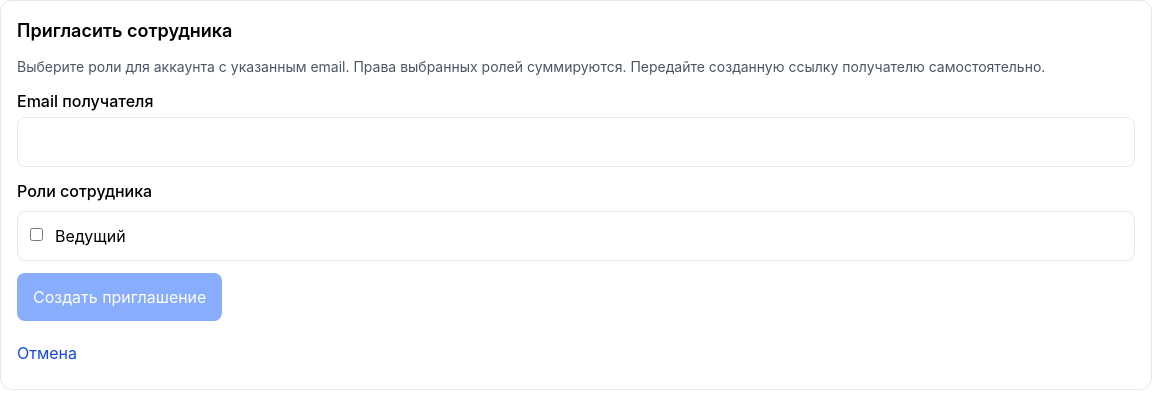
Test case: сбой локального сохранения не теряет полученную ссылку и не повторяет RPC
This screenshot has width=1152, height=407.
Click the checkbox labelled "Ведущий" at {"x": 36, "y": 234}, box [30,228,43,241]
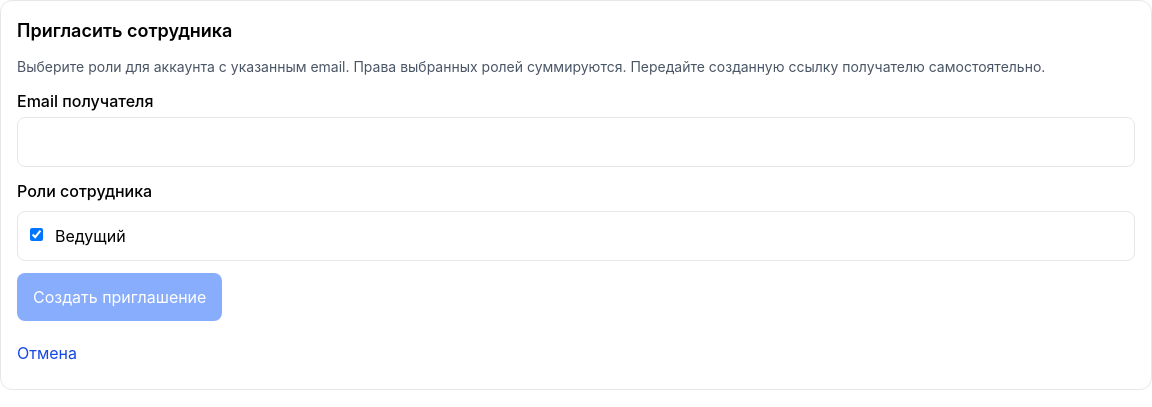
Type "demo@example.test" into the field labelled "Email получателя" at {"x": 576, "y": 142}, box [17,117,1135,167]
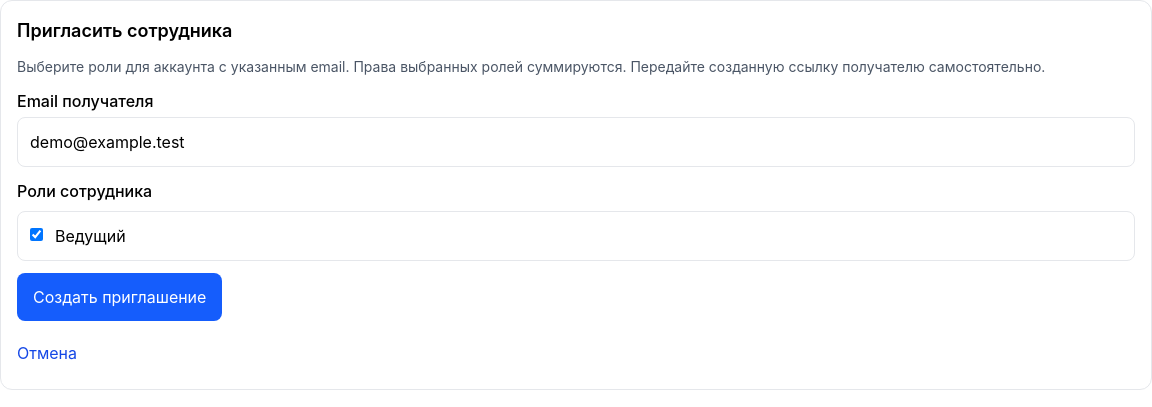
Submit the form "Создать приглашение", box [17,89,1135,321]
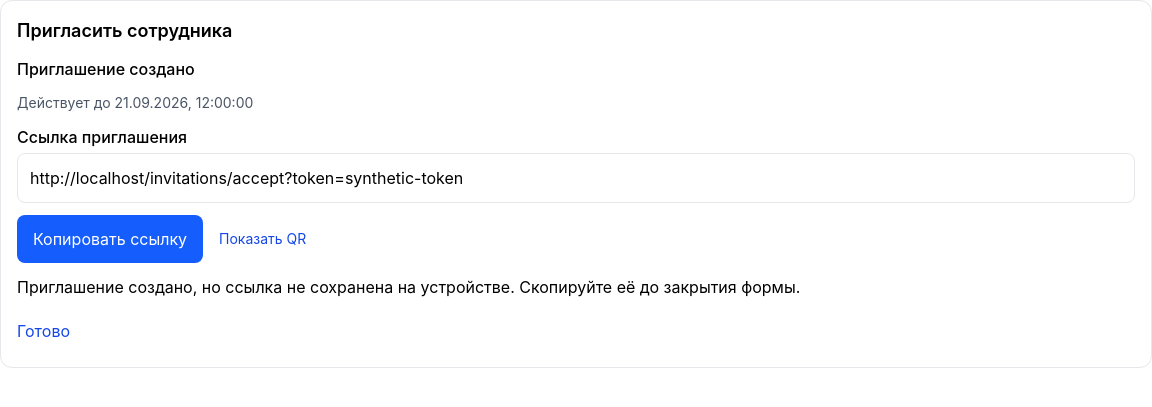
Expected: the text "ссылка не сохранена на устройстве" is shown, [17,277,800,297]
Expected: the button "Создать приглашение" is gone
